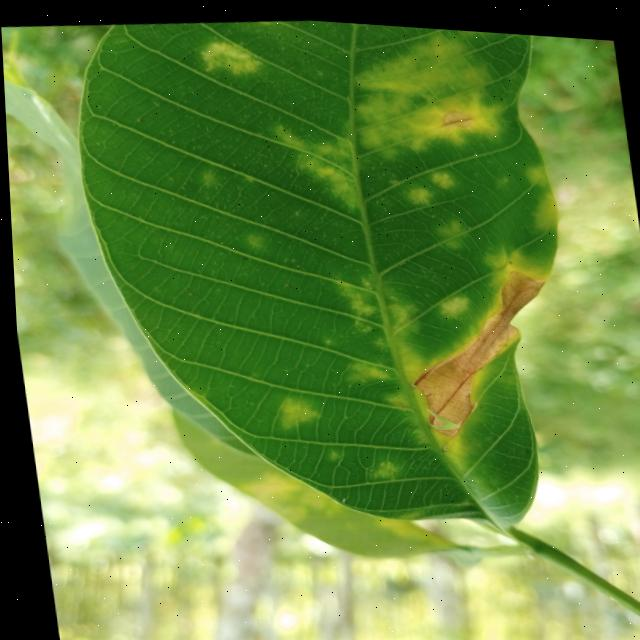Leaf-Blight: (391, 254, 562, 441), (436, 101, 474, 124)
